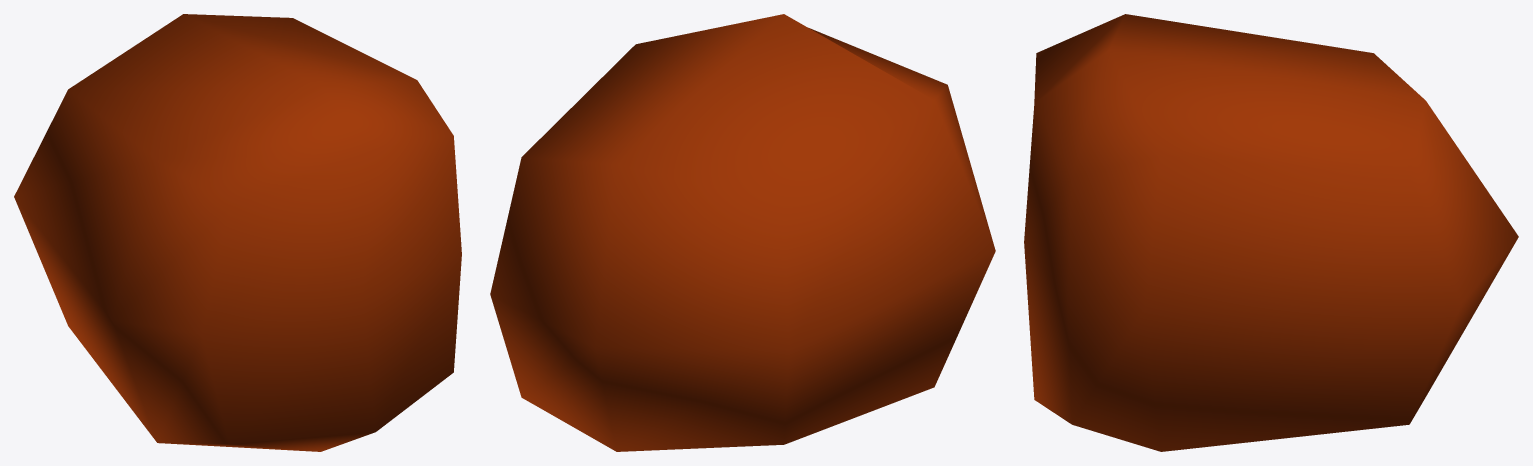
The model's file is ShoulderLeft.dae.
3 renders of one model, left to right at view 1: azimuth 30°, elevation 25°; view 2: azimuth 150°, elevation 25°; view 3: azimuth 270°, elevation 25°, orthographic. The views are drawn at different scales.
Parts seen in each view (by area): view 1: Shoulder_L; view 2: Shoulder_L; view 3: Shoulder_L.
Part boxes in pixels (x1=…): Shoulder_L: x1=14, y1=14, x2=461, y2=451; Shoulder_L: x1=490, y1=14, x2=995, y2=451; Shoulder_L: x1=1024, y1=14, x2=1518, y2=451.
Bounding box in the file's own units: 0.1517 × 0.1822 × 0.1555.
